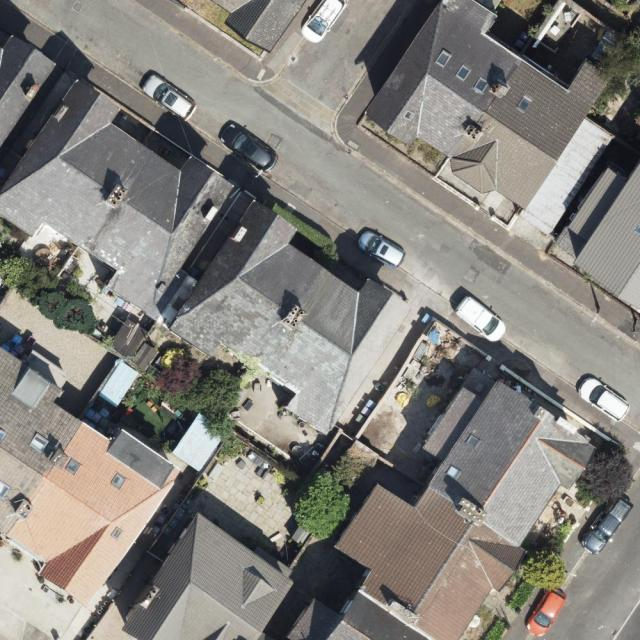roof: (287, 363, 601, 640), (168, 197, 415, 435), (4, 80, 239, 322), (361, 0, 621, 214), (0, 345, 184, 606), (121, 514, 297, 640), (555, 157, 640, 312), (0, 33, 58, 151), (210, 0, 305, 52)
skylight: (29, 431, 53, 457), (435, 47, 454, 70), (515, 94, 535, 113), (65, 456, 83, 477), (471, 77, 489, 97), (109, 469, 126, 490), (455, 61, 472, 82), (444, 464, 463, 482), (467, 431, 482, 449), (401, 109, 418, 124), (110, 524, 125, 538), (0, 479, 9, 500), (0, 427, 7, 444), (636, 222, 640, 236)
